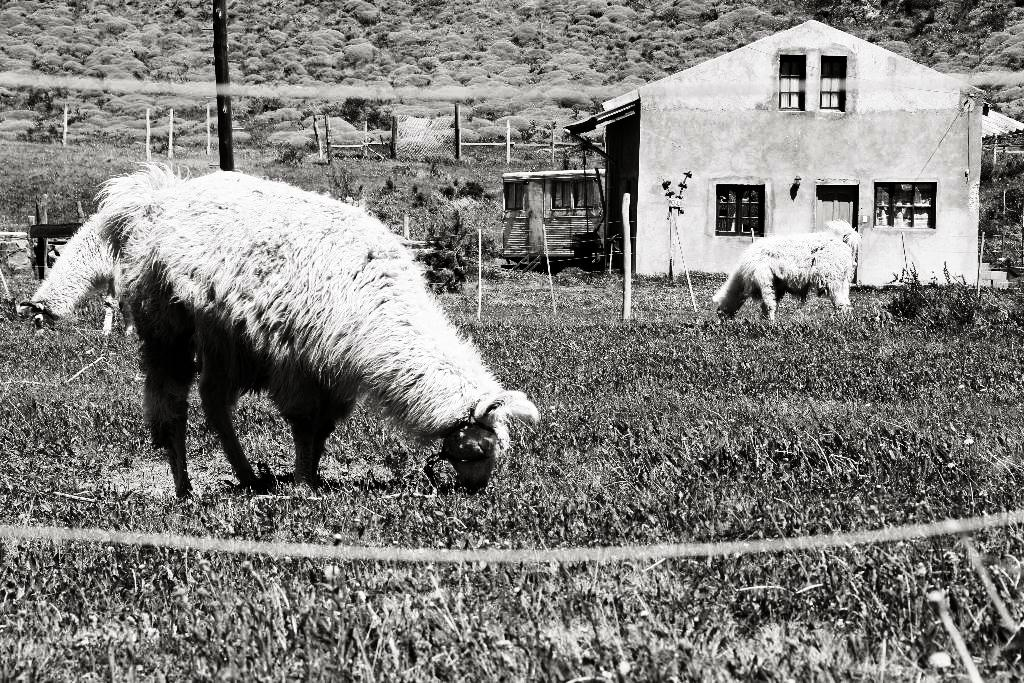Sheep: (92, 157, 539, 497), (707, 219, 867, 326), (18, 212, 139, 336)
